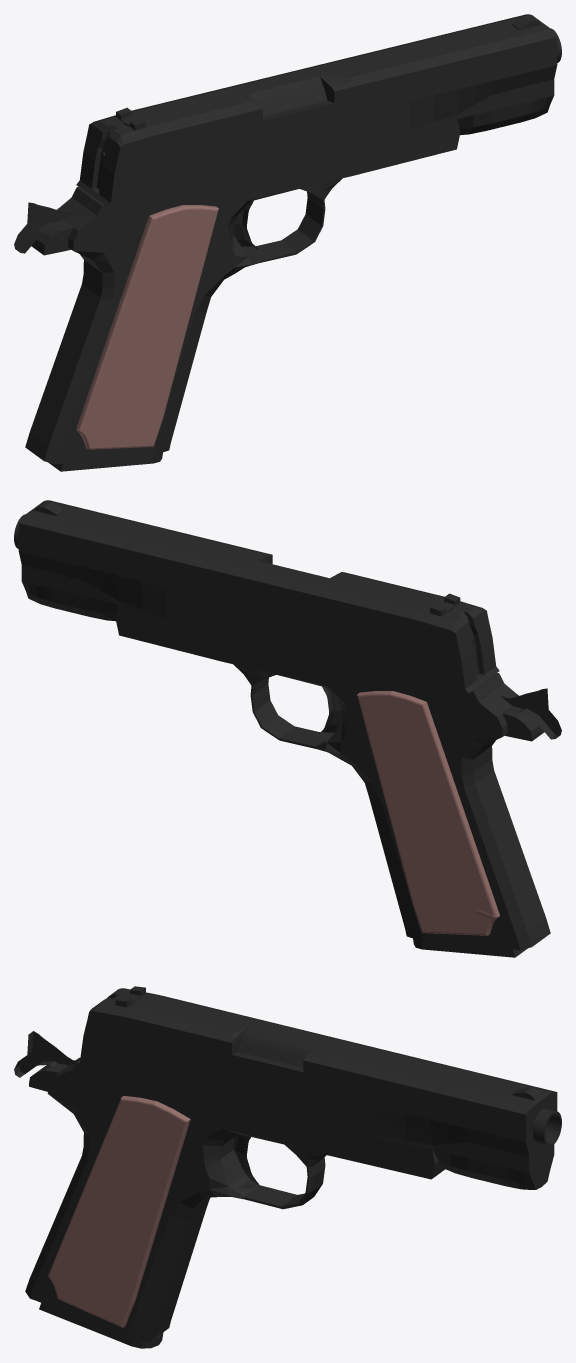
The picture shows the model from 3 angles, top to bottom: view 1: azimuth 30°, elevation 25°; view 2: azimuth 150°, elevation 25°; view 3: azimuth 330°, elevation 25°; orthographic projection.
Visible parts, largest first — view 1: m1911 body, m1911 Slide, Filled Magazine; view 2: m1911 body, m1911 Slide, Filled Magazine; view 3: m1911 body, m1911 Slide, Filled Magazine.
Part boxes in pixels (x1=…): m1911 body: x1=14, y1=28, x2=561, y2=464; m1911 Slide: x1=76, y1=14, x2=557, y2=207; Filled Magazine: x1=48, y1=452, x2=162, y2=471; m1911 body: x1=14, y1=514, x2=561, y2=950; m1911 Slide: x1=18, y1=500, x2=499, y2=693; Filled Magazine: x1=413, y1=938, x2=527, y2=957; m1911 body: x1=14, y1=1031, x2=561, y2=1341; m1911 Slide: x1=76, y1=986, x2=557, y2=1189; Filled Magazine: x1=39, y1=1303, x2=163, y2=1348.
Size of the model in its own units: 0.5593 by 0.3438 by 0.0589.
